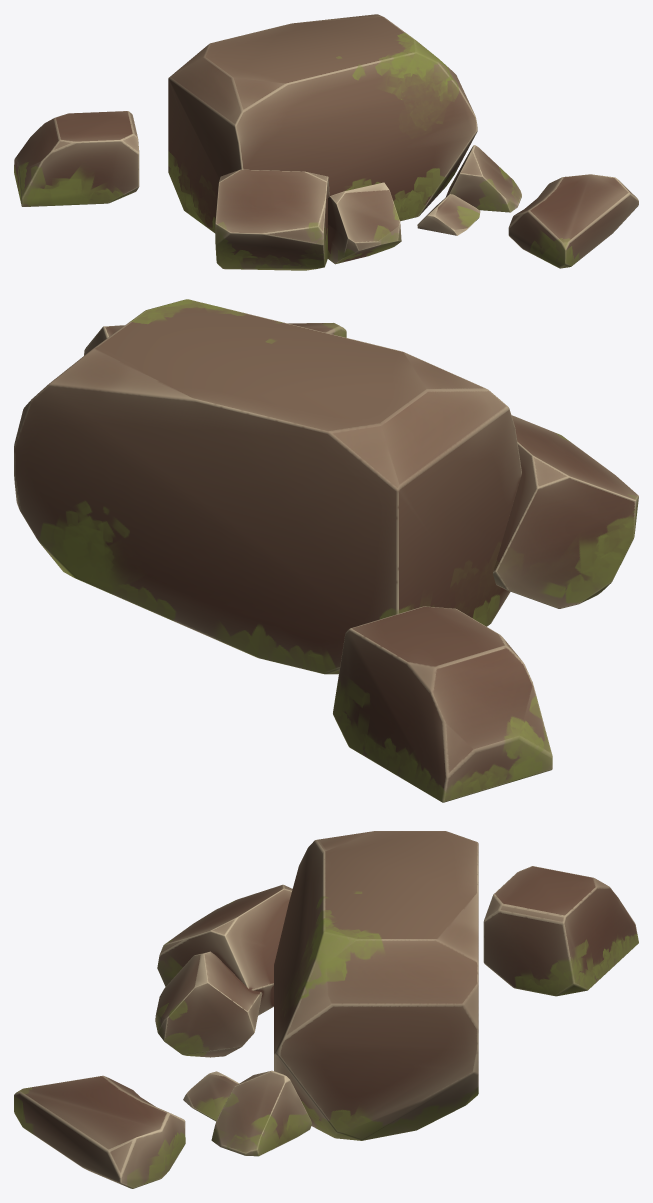
The model's file is Rock Type 2.fbx.
The picture shows the model from 3 angles, top to bottom: view 1: azimuth 30°, elevation 25°; view 2: azimuth 150°, elevation 25°; view 3: azimuth 270°, elevation 25°; orthographic projection. The views are drawn at different scales.
Visible parts, largest first — view 1: Cube.098, Cube.099, Cube.103, Cube.097, Cube.100, Cube.102, Cube.101; view 2: Cube.098, Cube.103, Cube.099, Cube.097; view 3: Cube.098, Cube.103, Cube.097, Cube.100, Cube.099, Cube.102, Cube.101.
Boxes of the visible parts, left/top/right/bottom form: Cube.098: left=168, top=14, right=477, bottom=233; Cube.099: left=215, top=169, right=329, bottom=270; Cube.103: left=14, top=111, right=139, bottom=206; Cube.097: left=508, top=174, right=638, bottom=268; Cube.100: left=328, top=182, right=401, bottom=264; Cube.102: left=446, top=145, right=521, bottom=212; Cube.101: left=417, top=194, right=480, bottom=235; Cube.098: left=14, top=299, right=521, bottom=674; Cube.103: left=333, top=606, right=552, bottom=802; Cube.099: left=493, top=415, right=638, bottom=608; Cube.097: left=84, top=323, right=346, bottom=355; Cube.098: left=274, top=831, right=478, bottom=1140; Cube.103: left=483, top=866, right=638, bottom=996; Cube.097: left=14, top=1075, right=185, bottom=1188; Cube.100: left=155, top=951, right=262, bottom=1057; Cube.099: left=157, top=884, right=292, bottom=1015; Cube.102: left=211, top=1070, right=311, bottom=1156; Cube.101: left=183, top=1071, right=239, bottom=1121.
Size of the model in its own units: 5924 by 1845 by 5632.
